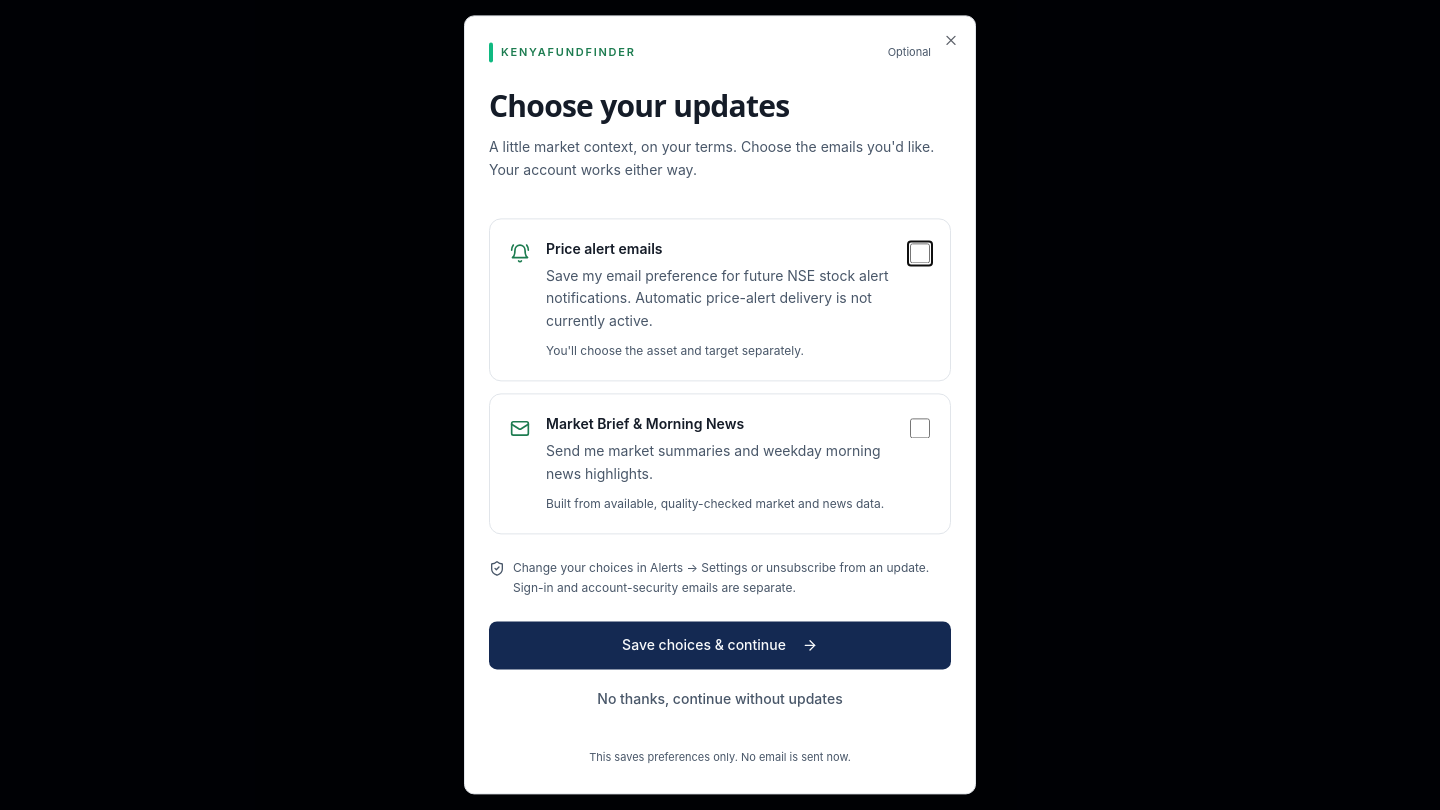
Choose your updates › No thanks clears both drafts and saves an explicit opt-out
Click the checkbox named "Price alert emails": (920, 253) [910, 243, 930, 263]
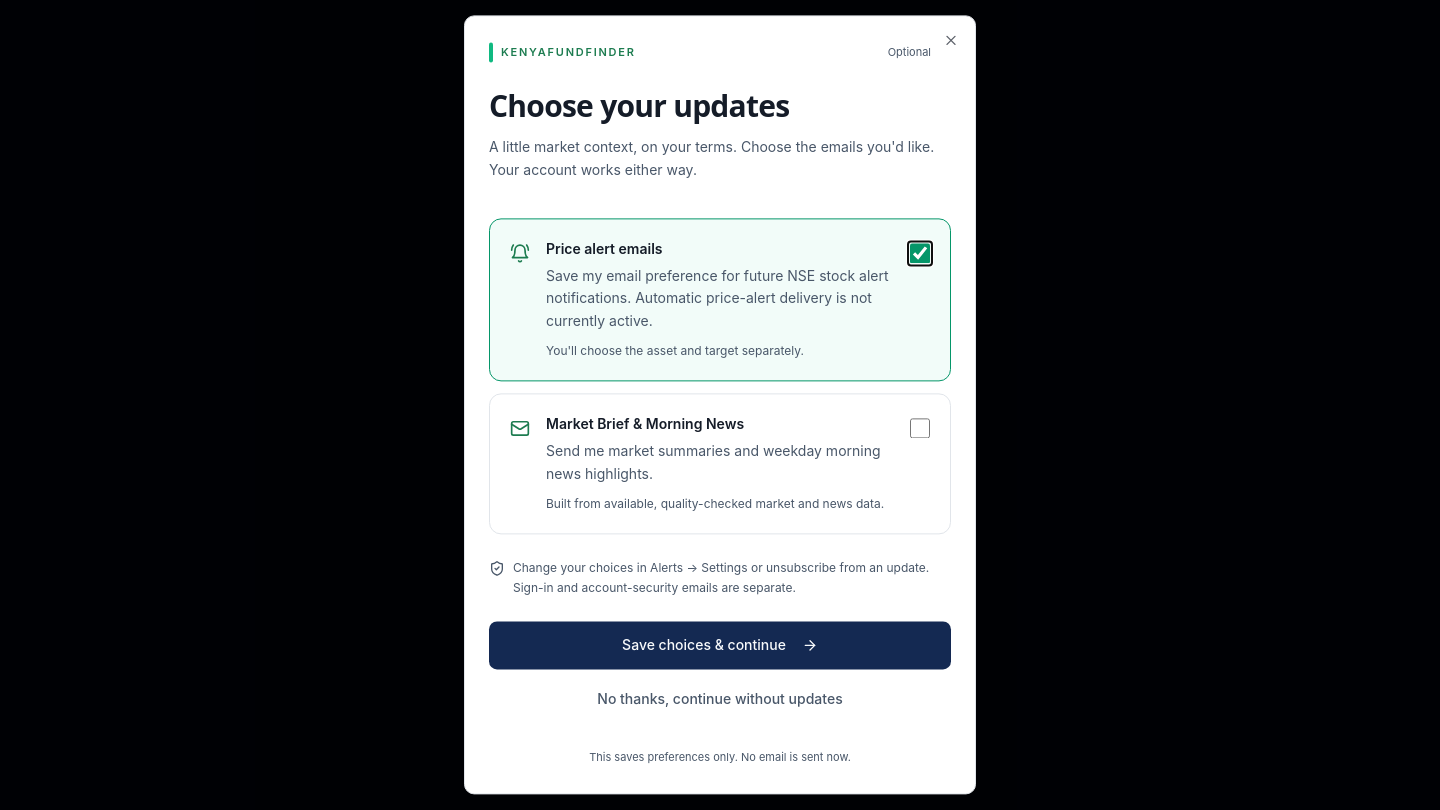
Click the checkbox named "Market Brief & Morning News": (920, 429) [910, 419, 930, 439]
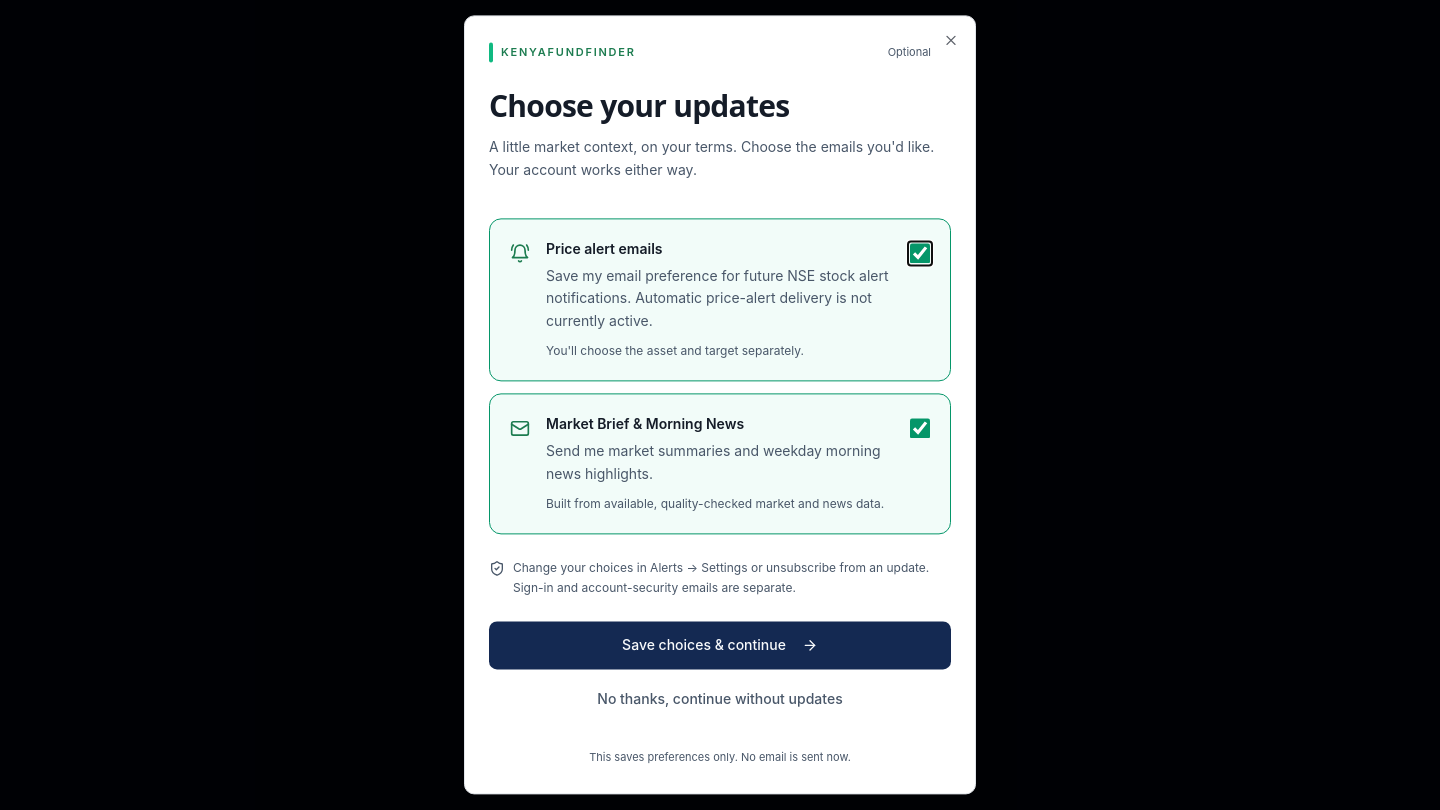
Click the button "No thanks, continue without updates": (720, 700) [489, 678, 951, 722]
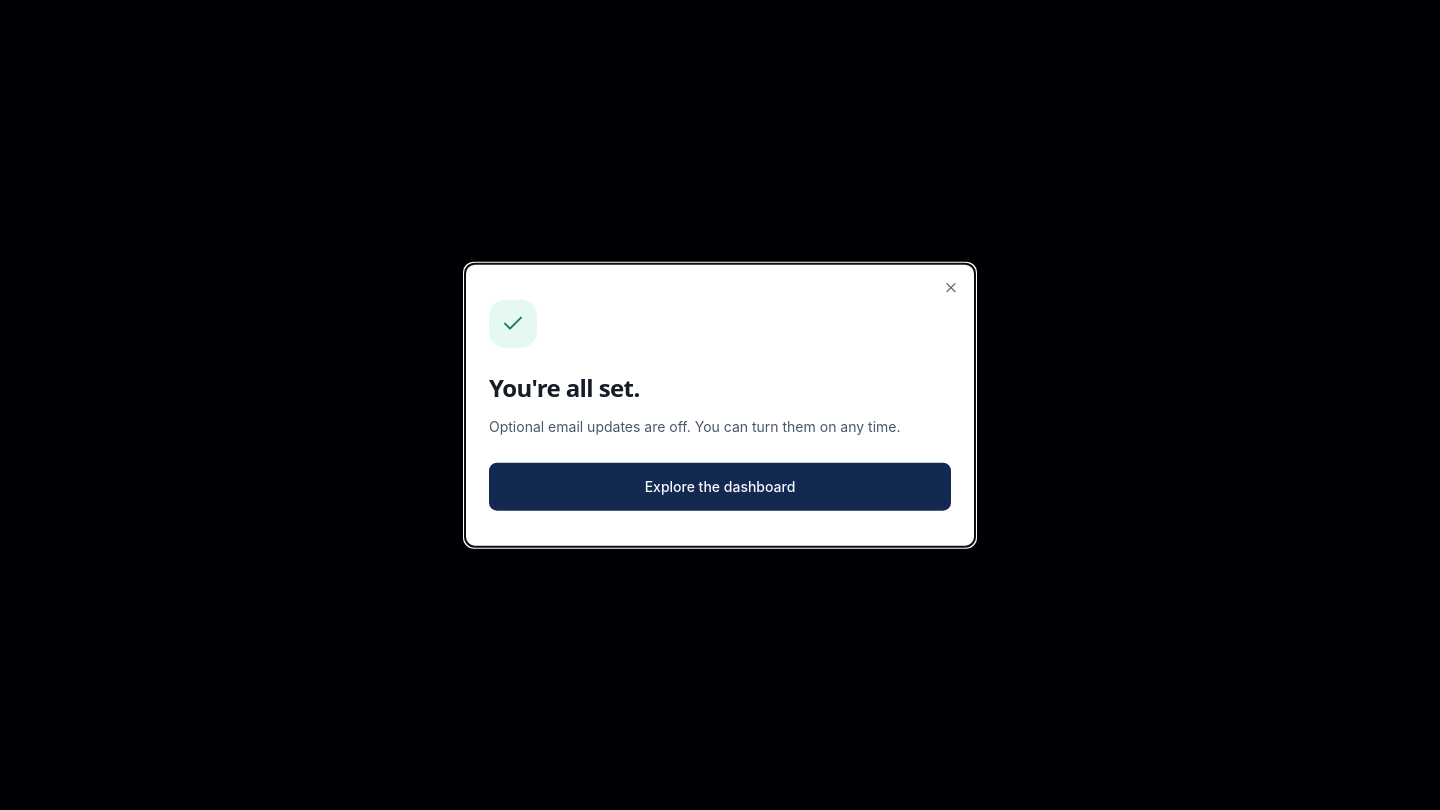
Check: the heading "You're all set." is shown, box [489, 371, 640, 404]
